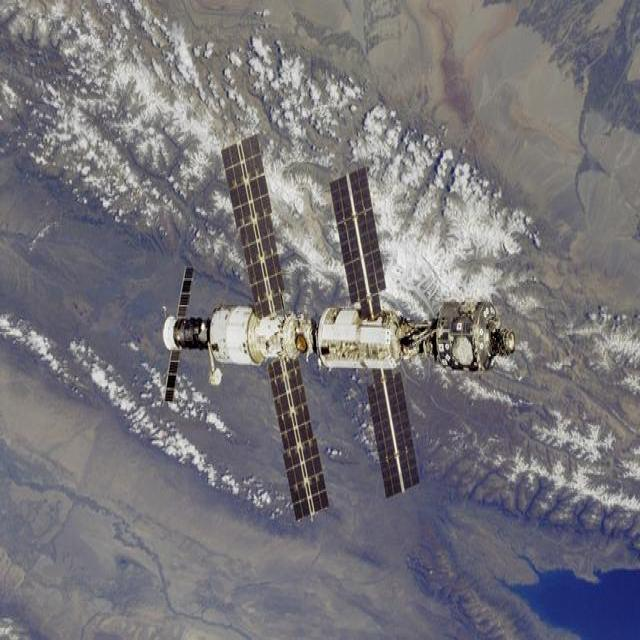medium_debris: (162, 137, 514, 519)
